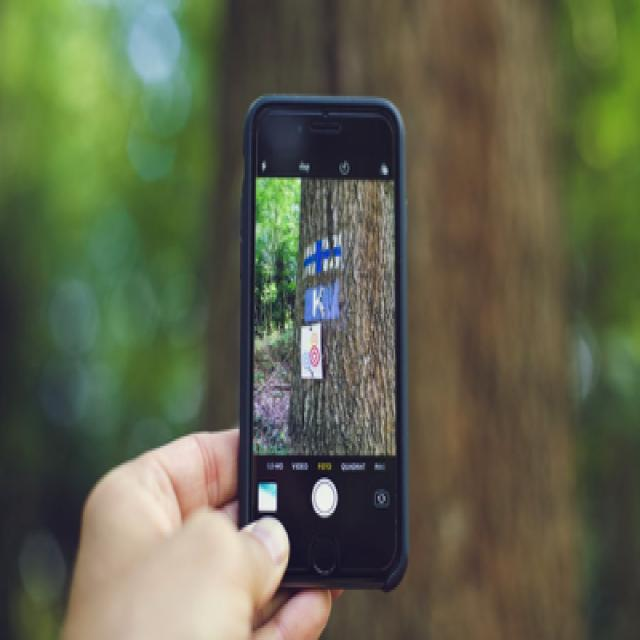cellphone: (237, 91, 408, 592)
